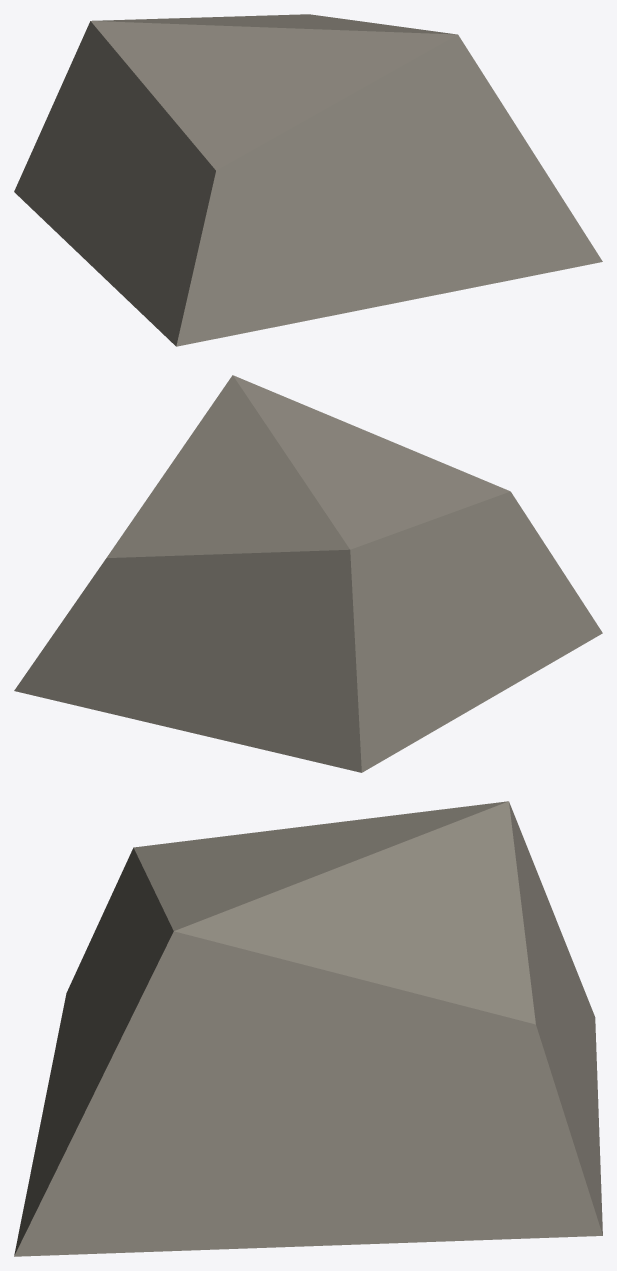
Rendered from TB_D_Env_StoneC_A.FBX.
The picture shows the model from 3 angles, top to bottom: view 1: azimuth 30°, elevation 25°; view 2: azimuth 150°, elevation 25°; view 3: azimuth 270°, elevation 25°; orthographic projection. The views are drawn at different scales.
Visible parts, largest first — view 1: TB_D_Env_StoneC_A; view 2: TB_D_Env_StoneC_A; view 3: TB_D_Env_StoneC_A.
Boxes of the visible parts, left/top/right/bottom form: TB_D_Env_StoneC_A: left=14, top=14, right=602, bottom=346; TB_D_Env_StoneC_A: left=14, top=375, right=602, bottom=772; TB_D_Env_StoneC_A: left=14, top=801, right=602, bottom=1256.
Size of the model in its own units: 0.2881 by 0.138 by 0.2721.
